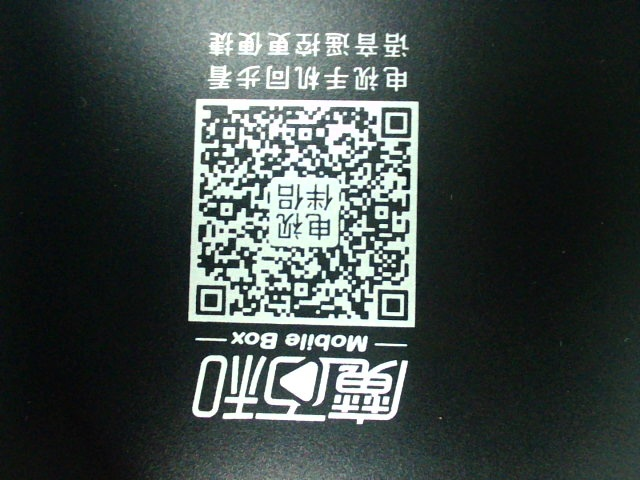AZ_MobileBox: (180, 28, 425, 428)
